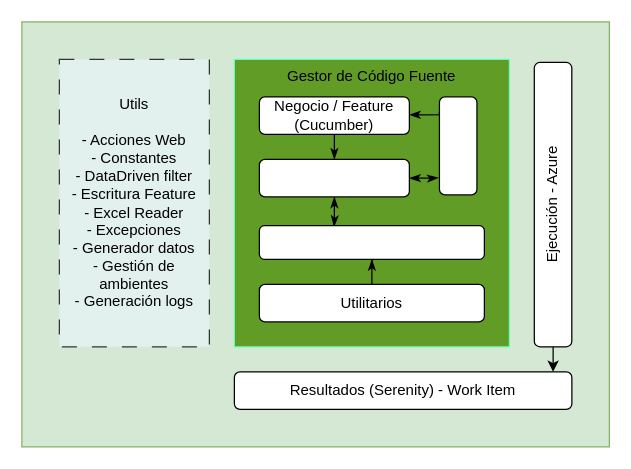
This 631x469 diagram has some shape labels left out. The box of each missing label's shape, as (x1, y1, x2, y2) in pixels:
Data Driven: (438, 96, 477, 195)
Definition: (258, 158, 409, 197)
Page / Driver (Selenium): (258, 224, 484, 259)
